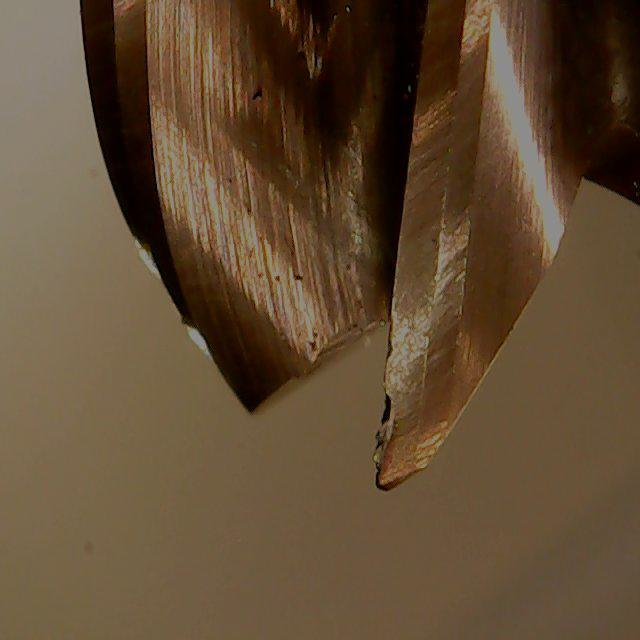Tool-wear-class-1: (367, 231, 476, 486)
